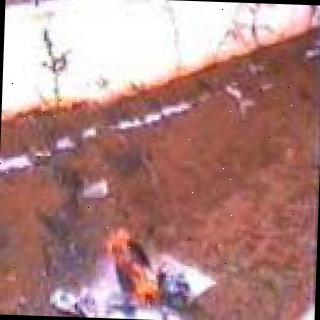fire: (97, 220, 188, 314)
